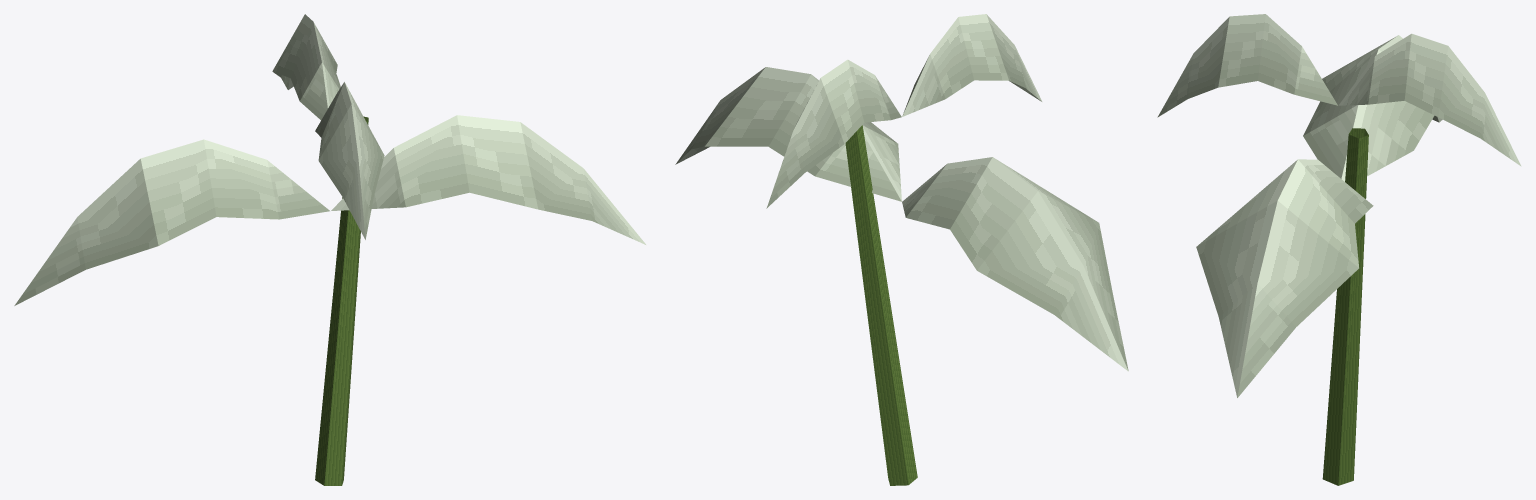
File: bushy_0.obj
3 renders of one model, left to right at view 1: azimuth 30°, elevation 25°; view 2: azimuth 150°, elevation 25°; view 3: azimuth 270°, elevation 25°, orthographic. The views are drawn at different scales.
Parts seen in each view (by area): view 1: plant; view 2: plant; view 3: plant.
Boxes of the visible parts, x1,y1,x2,y2 form: plant: [14, 14, 645, 485]; plant: [675, 14, 1128, 485]; plant: [1157, 14, 1521, 485].
Size of the model in its own units: 0.2985 by 0.2294 by 0.1667.
